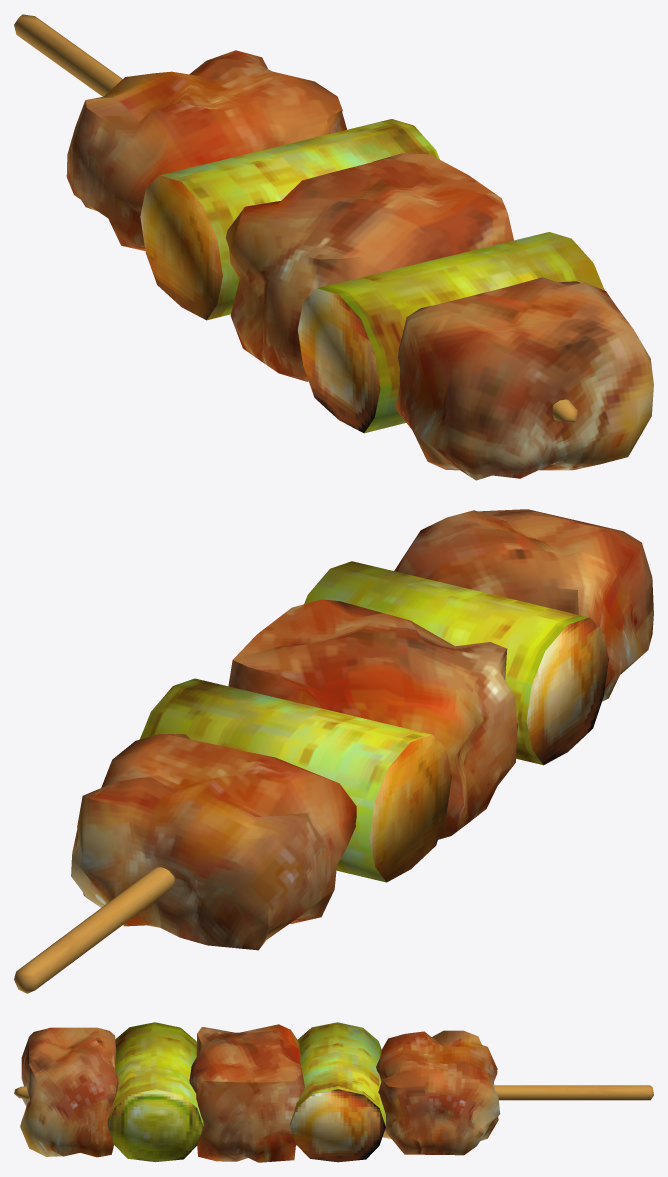
File: ref_bbqskewers1.fbx
The picture shows the model from 3 angles, top to bottom: view 1: azimuth 30°, elevation 25°; view 2: azimuth 150°, elevation 25°; view 3: azimuth 270°, elevation 25°; orthographic projection. The views are drawn at different scales.
Visible parts, largest first — view 1: ref_bbqskewers1; view 2: ref_bbqskewers1; view 3: ref_bbqskewers1.
Part boxes in pixels (bbox=[...]): ref_bbqskewers1: bbox=[14, 14, 653, 480]; ref_bbqskewers1: bbox=[14, 509, 653, 993]; ref_bbqskewers1: bbox=[14, 1022, 653, 1162].
Size of the model in its own units: 24.95 by 17.28 by 100.
1 material, 1 textured.
